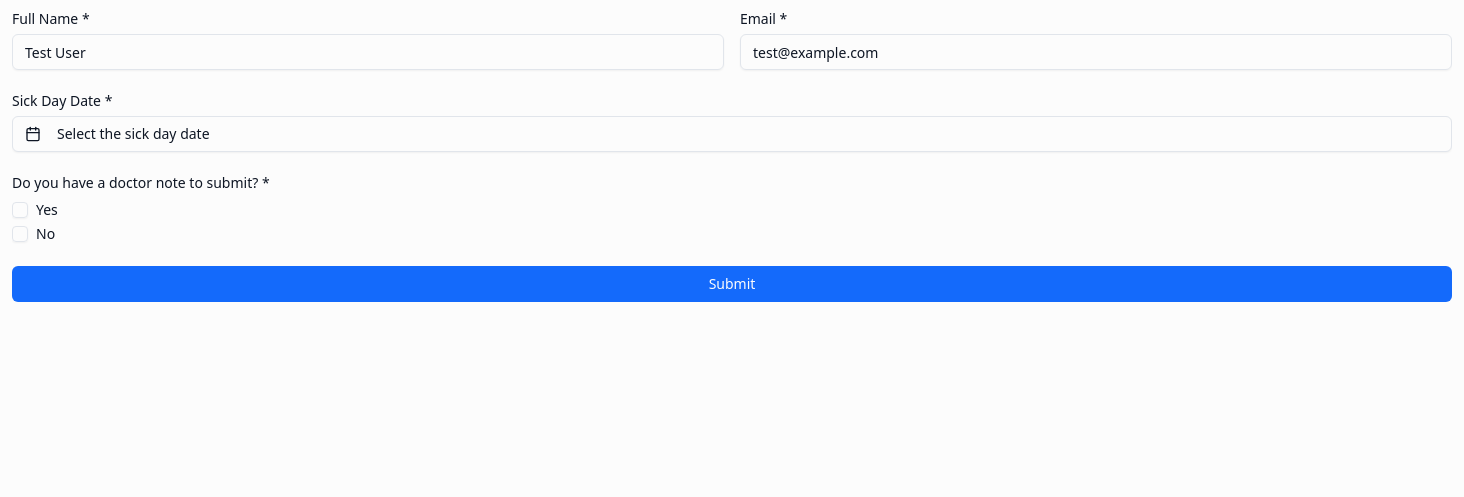
Test: SickDayForm › shows file upload zone after selecting Yes for doctor note
The width and height of the screenshot is (1464, 497).
Click the checkbox with id "hasDoctorNoteYes": (20, 210) [12, 202, 28, 218]
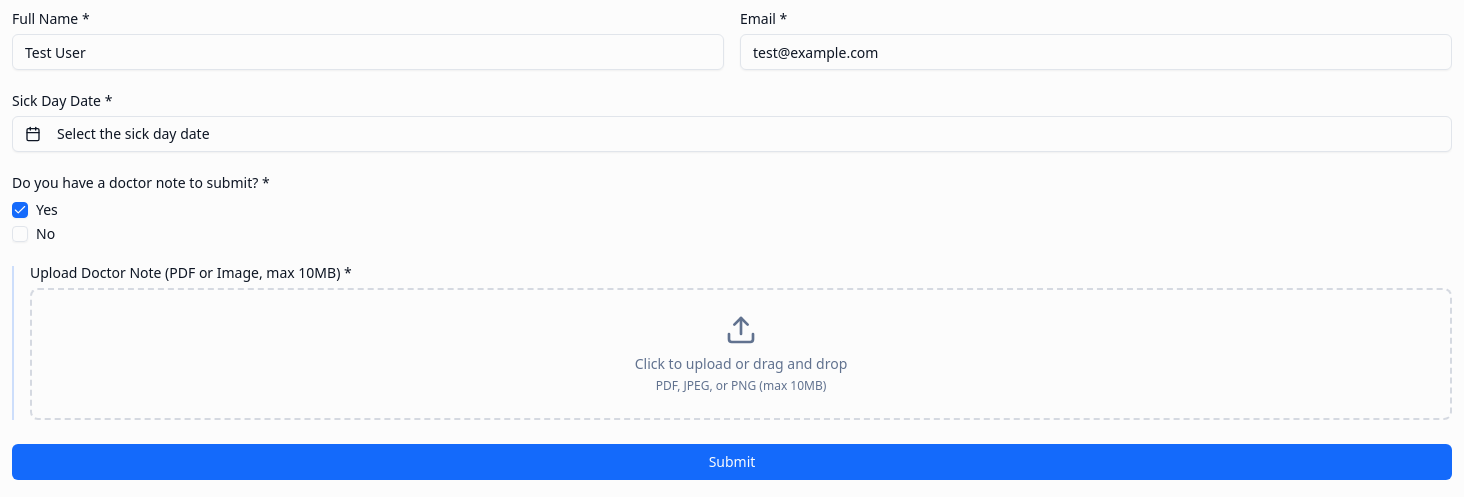
Result: the text "Upload Doctor Note" is shown at [30, 263, 352, 282]
Result: the text "Click to upload or drag and drop" is shown at [635, 354, 847, 373]
